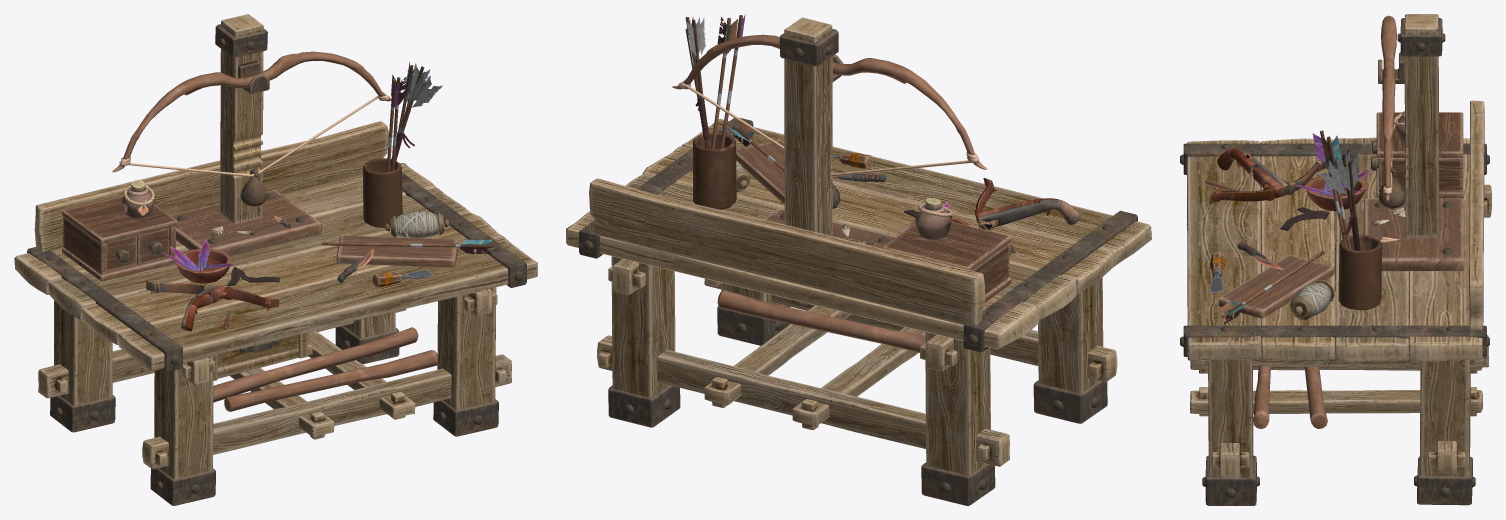
3 renders of one model, left to right at view 1: azimuth 30°, elevation 25°; view 2: azimuth 150°, elevation 25°; view 3: azimuth 270°, elevation 25°, orthographic. The views are drawn at different scales.
Visible parts, largest first — view 1: SM_FletchingBench_LOD0; view 2: SM_FletchingBench_LOD0; view 3: SM_FletchingBench_LOD0.
Part boxes in pixels (left/top/right/bottom): SM_FletchingBench_LOD0: left=14, top=14, right=537, bottom=505; SM_FletchingBench_LOD0: left=566, top=14, right=1151, bottom=505; SM_FletchingBench_LOD0: left=1180, top=14, right=1491, bottom=505.
Size of the model in its own units: 2.38 by 2.13 by 1.5.
Materials: 3 (3 with a texture image).
